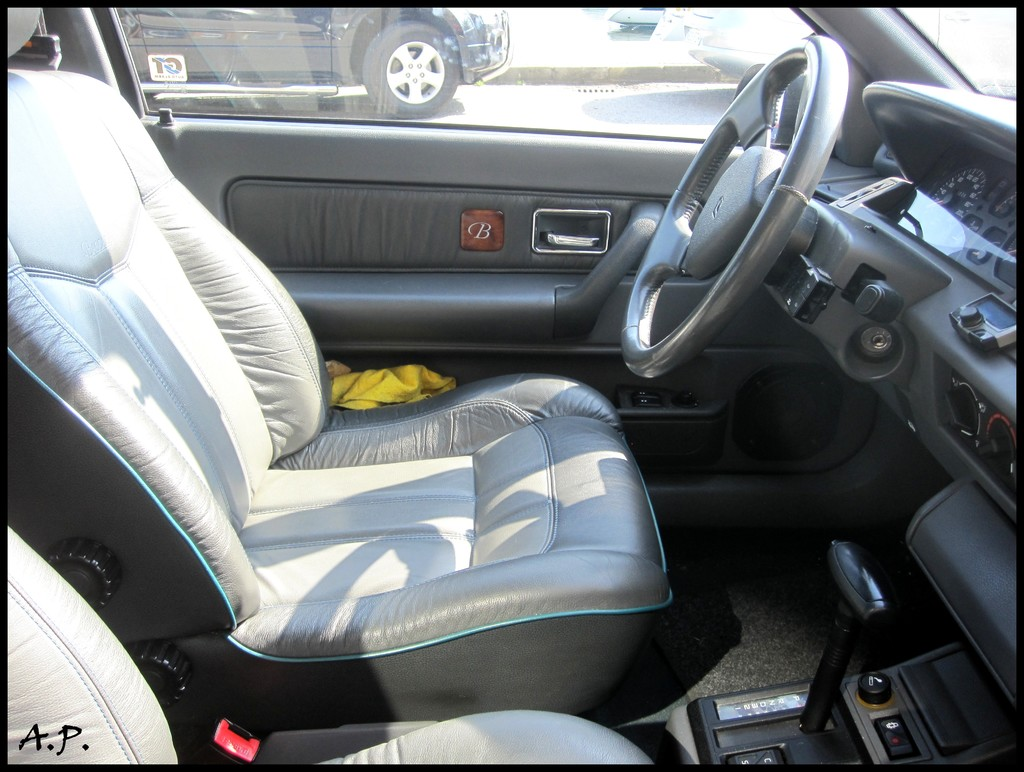cars: (16, 9, 992, 754), (115, 3, 508, 117)
